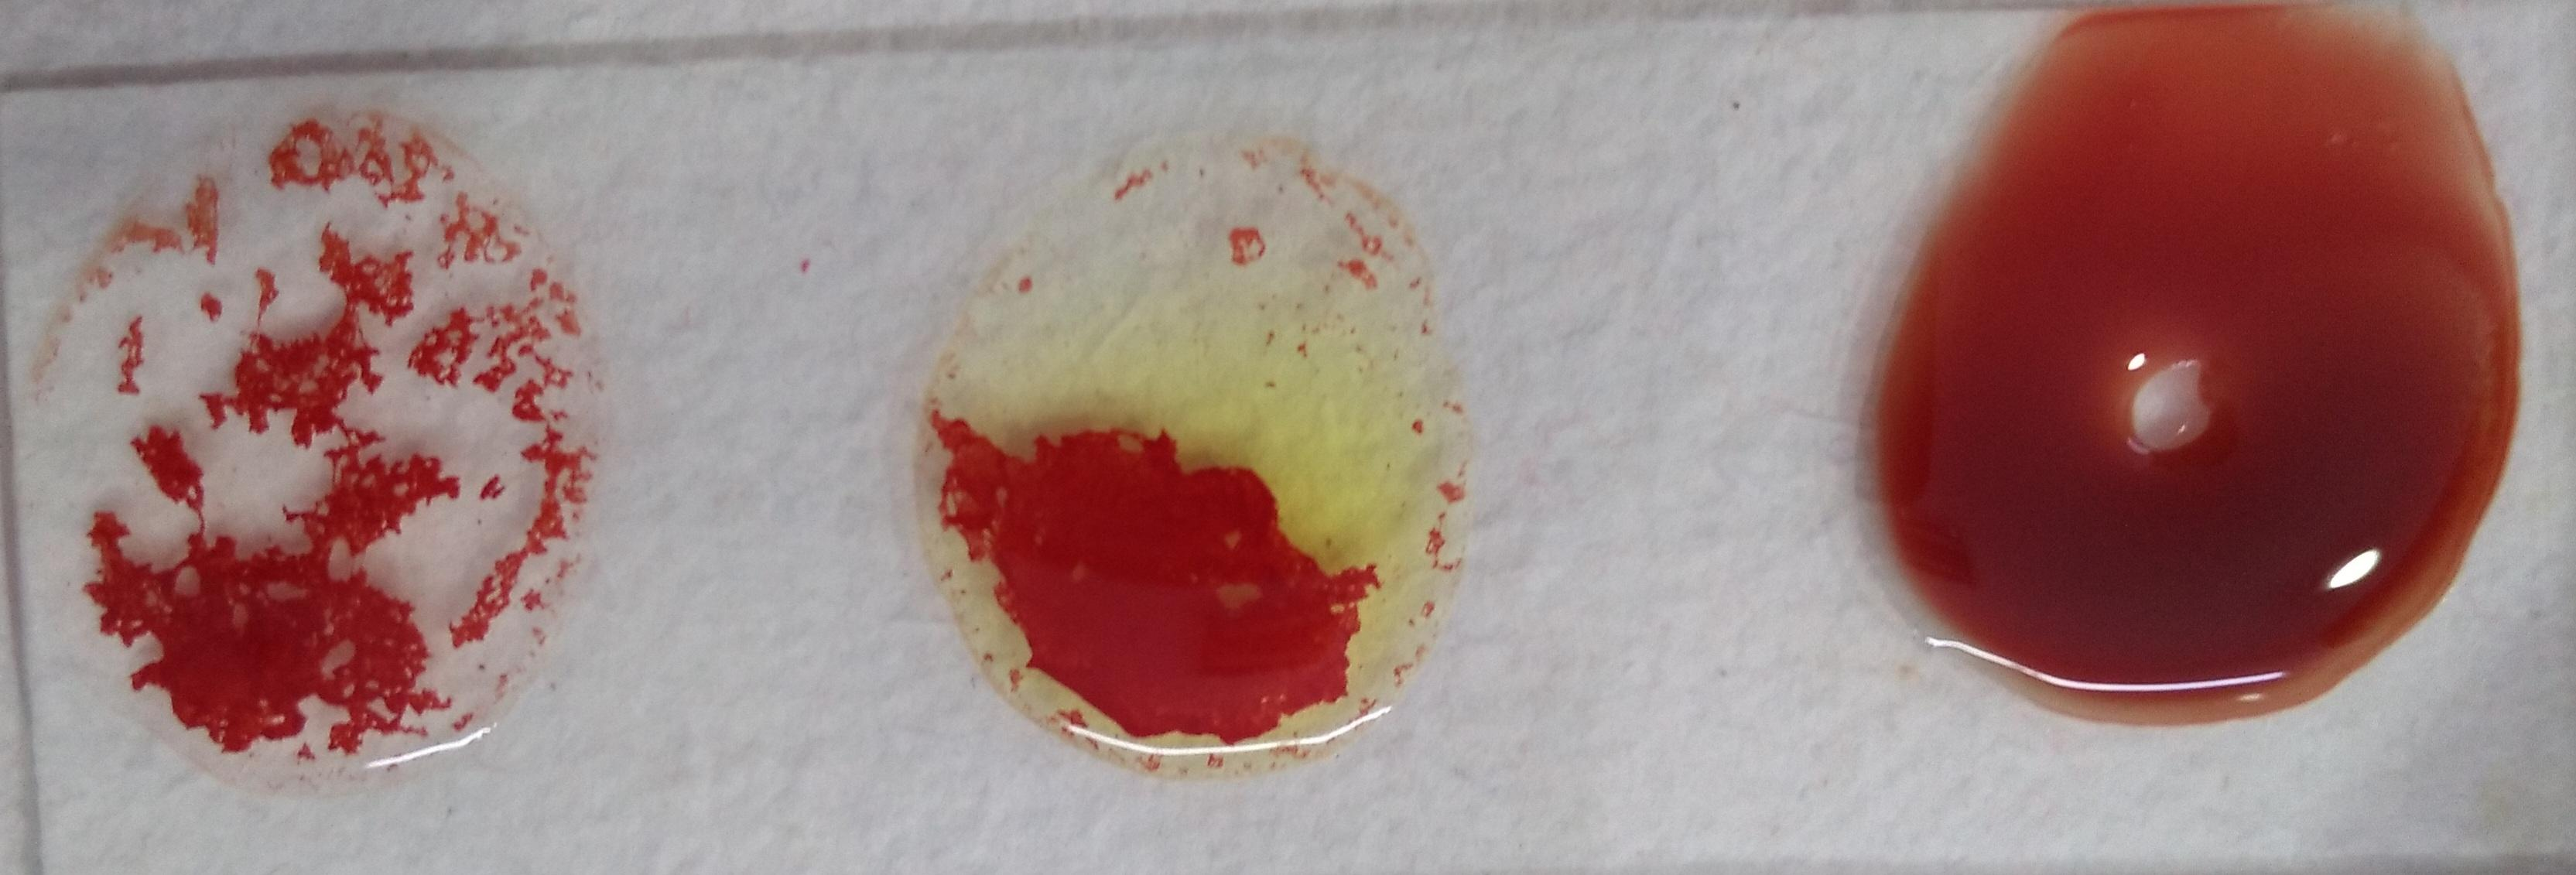B: (915, 141, 1462, 772)
D: (39, 100, 593, 772)
